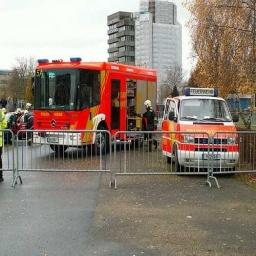ambulance: (33, 57, 156, 151), (162, 88, 238, 170)
